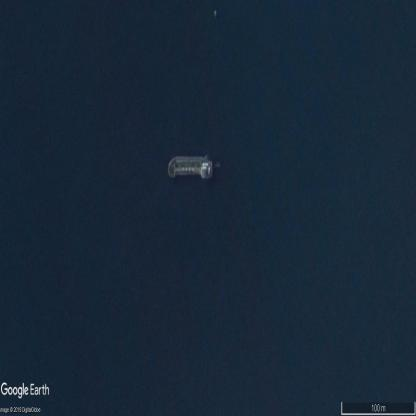ship: (168, 154, 213, 180)
